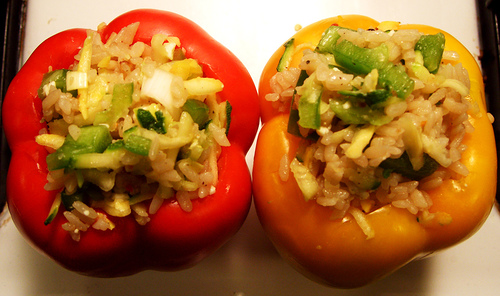capsicum: (1, 9, 262, 278), (254, 14, 499, 289)
